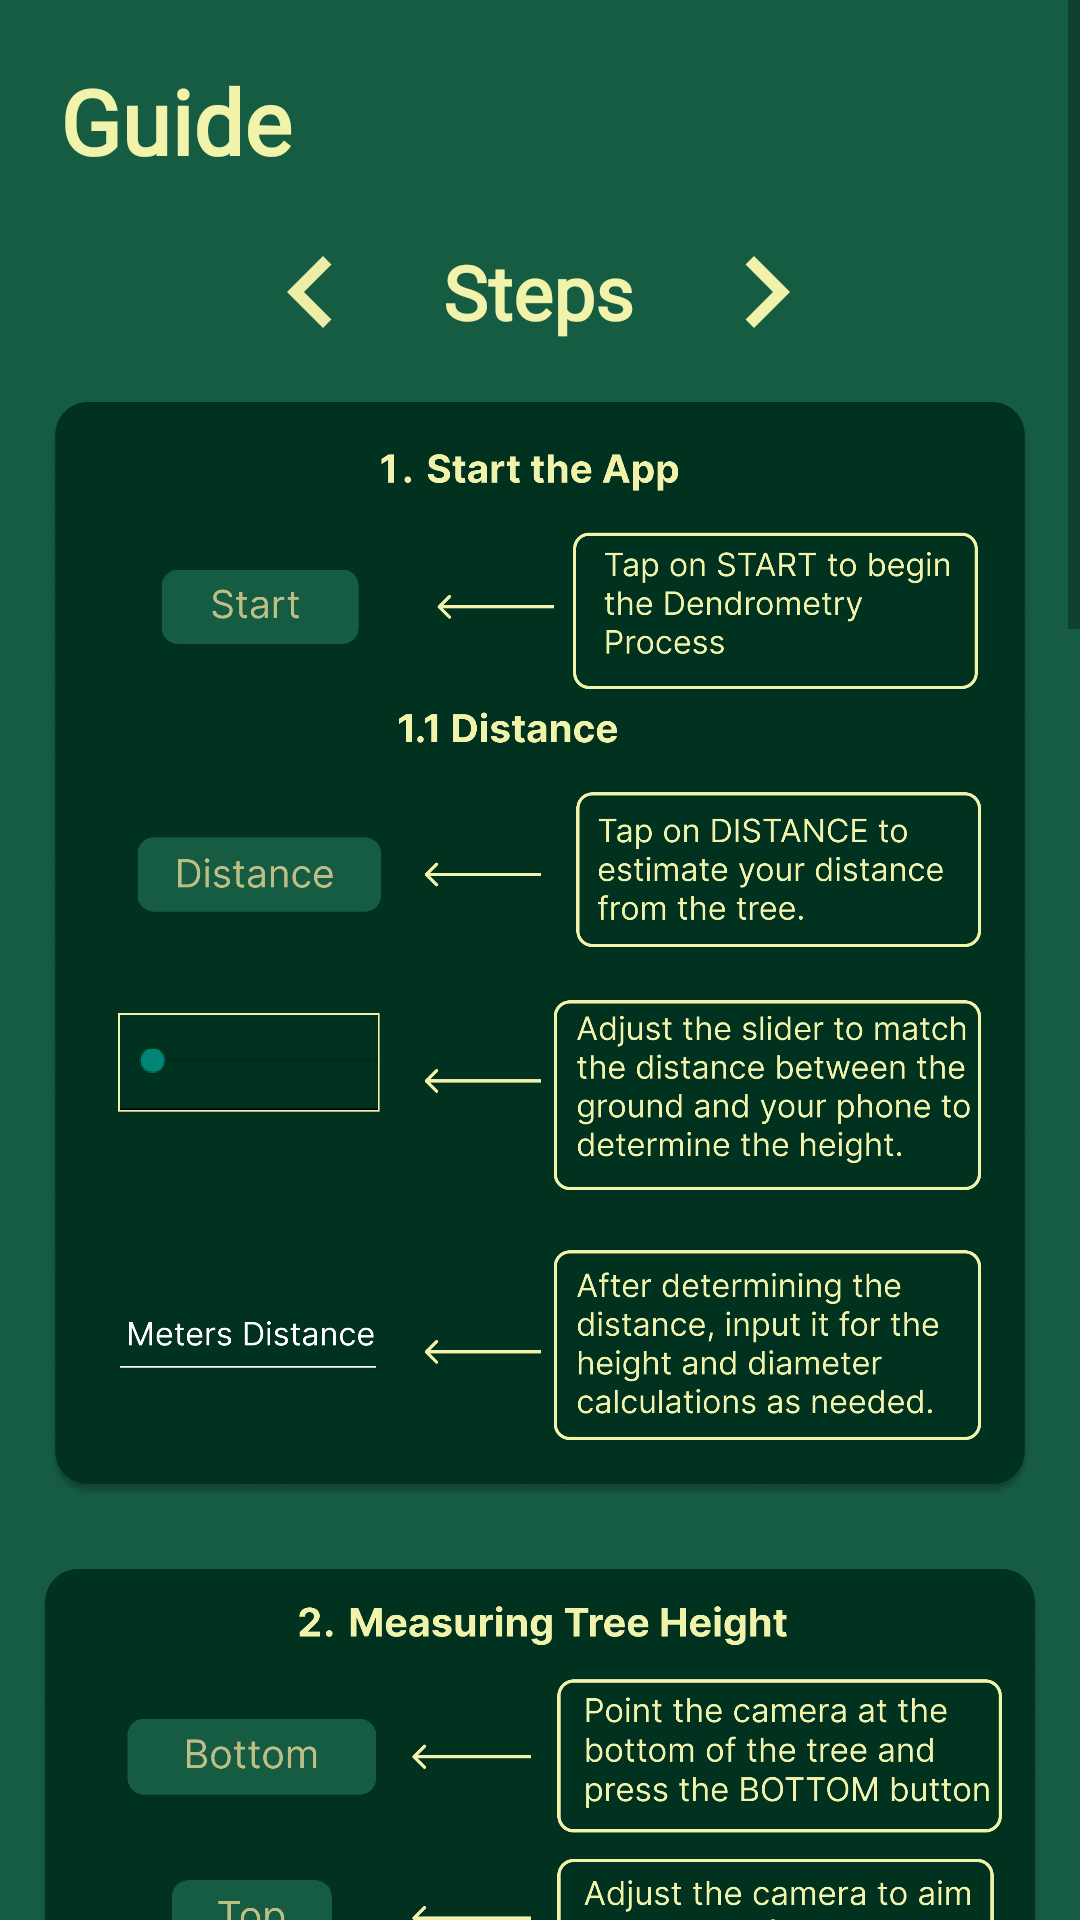

Icon bounding boxes for this 1080*1920 phone screenshot, format [x1=x1, y1=y1, x2=x2, y2=y2]:
change bt left: [x1=287, y1=256, x2=332, y2=328]
change bt right: [x1=745, y1=256, x2=790, y2=328]
